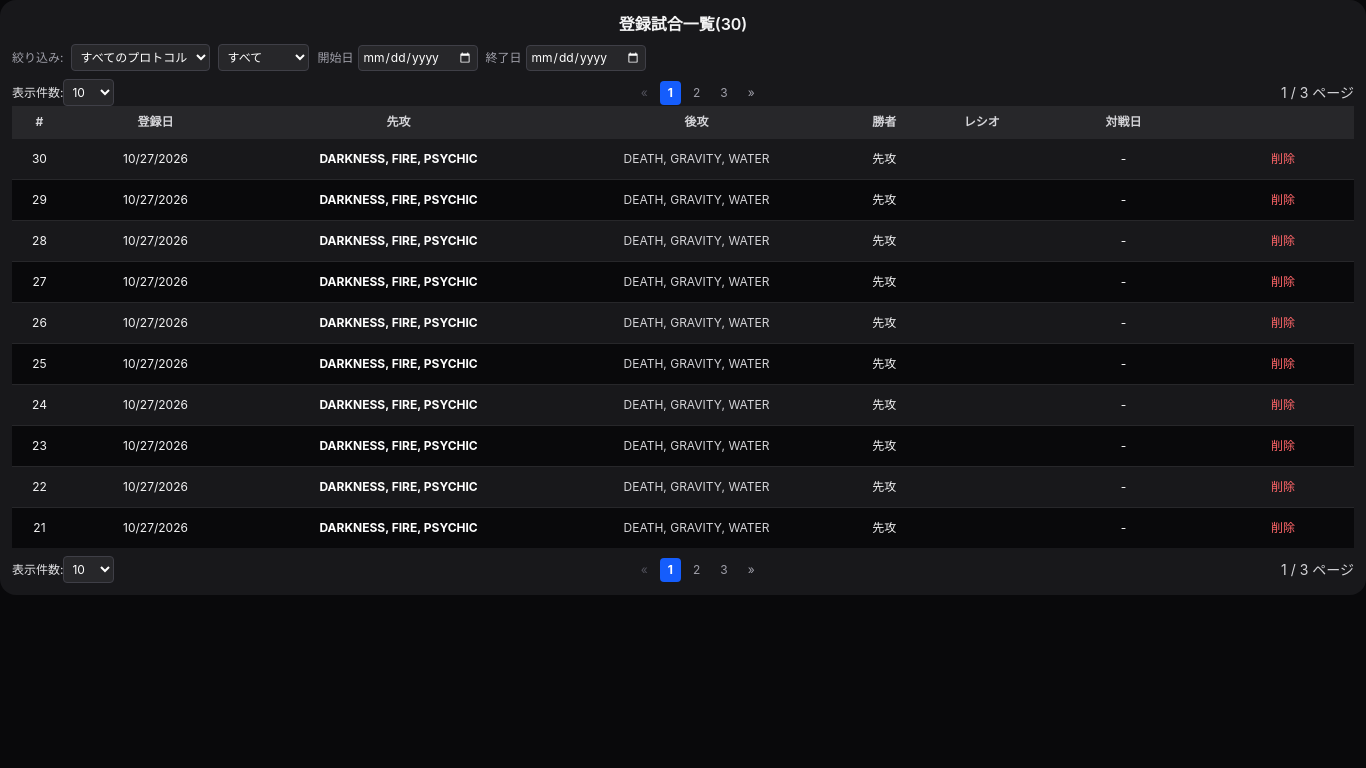
MatchList › pagination – page clamp & navigation › 最終ページのとき » ボタンは disabled
Click the 1st button "3".
click(724, 92)  # box [712,80,736,104]
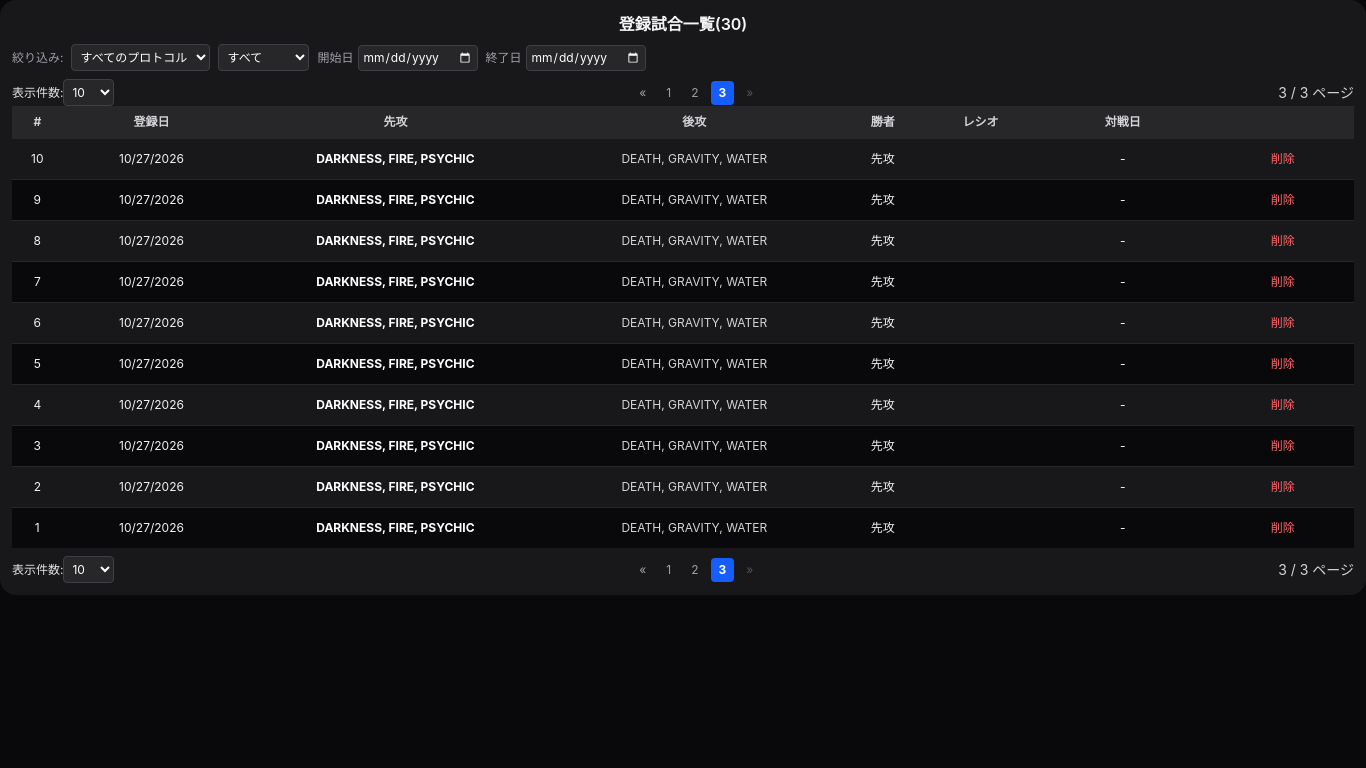
Now the button named "次のページ" is disabled, box [738,80,761,104]
